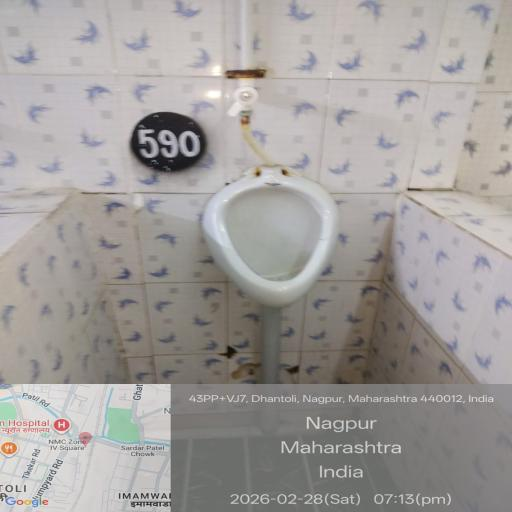clean_urinal: (199, 169, 379, 320)
partial_dirty_floor: (86, 297, 490, 510)
